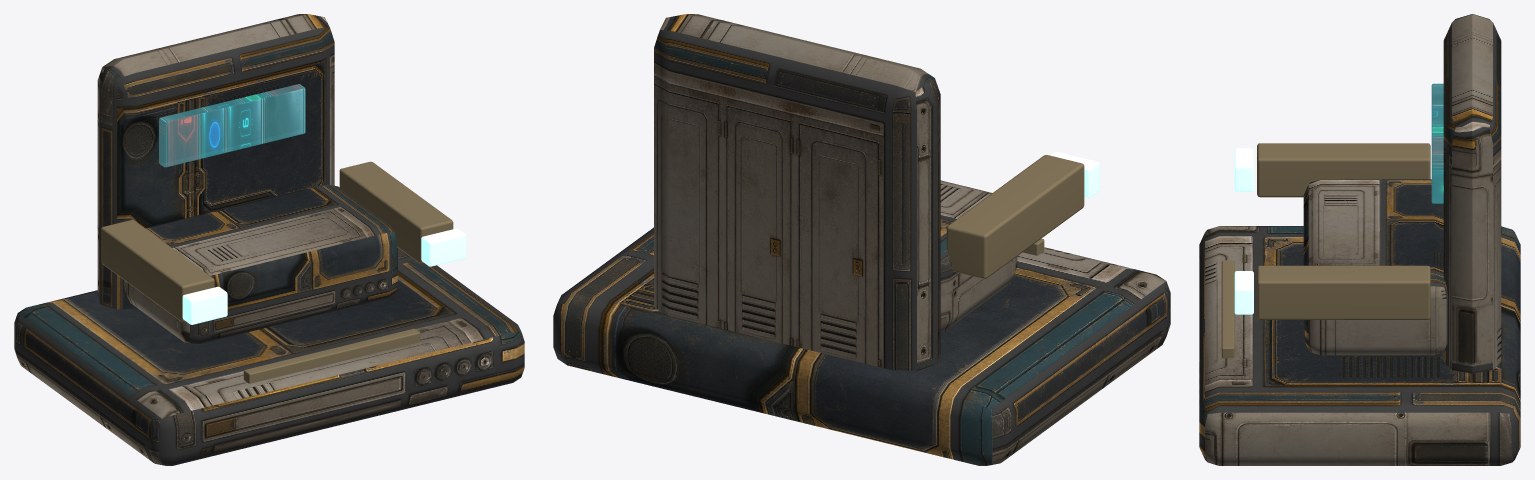
Rendered from hp_room_service_robot_dock_residential.glb.
The picture shows the model from 3 angles, left to right: view 1: azimuth 30°, elevation 25°; view 2: azimuth 150°, elevation 25°; view 3: azimuth 270°, elevation 25°; orthographic projection. The views are drawn at different scales.
Parts seen in each view (by area): view 1: charging_dock_floor_plinth, rear_power_column, central_empty_cradle_space, rear_charge_status_screen_image2, dock_side_clamp_arm, dock_side_clamp_arm.001, small_gold_service_slot, dock_cyan_charge_tip, dock_cyan_charge_tip.001; view 2: rear_power_column, charging_dock_floor_plinth, dock_side_clamp_arm, central_empty_cradle_space, dock_cyan_charge_tip; view 3: charging_dock_floor_plinth, rear_power_column, central_empty_cradle_space, dock_side_clamp_arm.001, dock_side_clamp_arm, rear_charge_status_screen_image2, small_gold_service_slot, dock_cyan_charge_tip, dock_cyan_charge_tip.001.
Part boxes in pixels (x1,y1,x2,y2): charging_dock_floor_plinth: [14, 248, 524, 465]; rear_power_column: [97, 14, 334, 309]; central_empty_cradle_space: [124, 184, 397, 343]; rear_charge_status_screen_image2: [159, 84, 305, 167]; dock_side_clamp_arm: [101, 220, 214, 322]; dock_side_clamp_arm.001: [339, 161, 453, 264]; small_gold_service_slot: [243, 328, 420, 383]; dock_cyan_charge_tip: [182, 286, 227, 324]; dock_cyan_charge_tip.001: [421, 228, 466, 266]; rear_power_column: [654, 14, 940, 371]; charging_dock_floor_plinth: [553, 227, 1170, 465]; dock_side_clamp_arm: [946, 155, 1084, 278]; central_empty_cradle_space: [940, 180, 1017, 331]; dock_cyan_charge_tip: [1051, 152, 1099, 197]; charging_dock_floor_plinth: [1199, 226, 1520, 465]; rear_power_column: [1443, 14, 1501, 373]; central_empty_cradle_space: [1303, 179, 1447, 355]; dock_side_clamp_arm.001: [1257, 265, 1430, 319]; dock_side_clamp_arm: [1257, 143, 1430, 197]; rear_charge_status_screen_image2: [1431, 83, 1443, 203]; small_gold_service_slot: [1221, 260, 1234, 358]; dock_cyan_charge_tip: [1234, 148, 1253, 191]; dock_cyan_charge_tip.001: [1234, 271, 1253, 314].
Bounding box in the file's own units: 1.29 × 0.9898 × 0.9133.
Materials: 5 (3 with a texture image).
